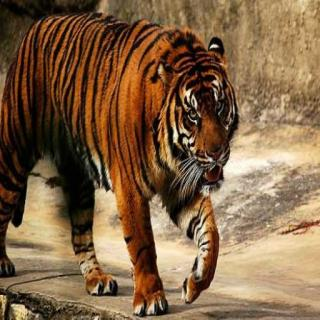Tiger: (0, 8, 241, 317)
